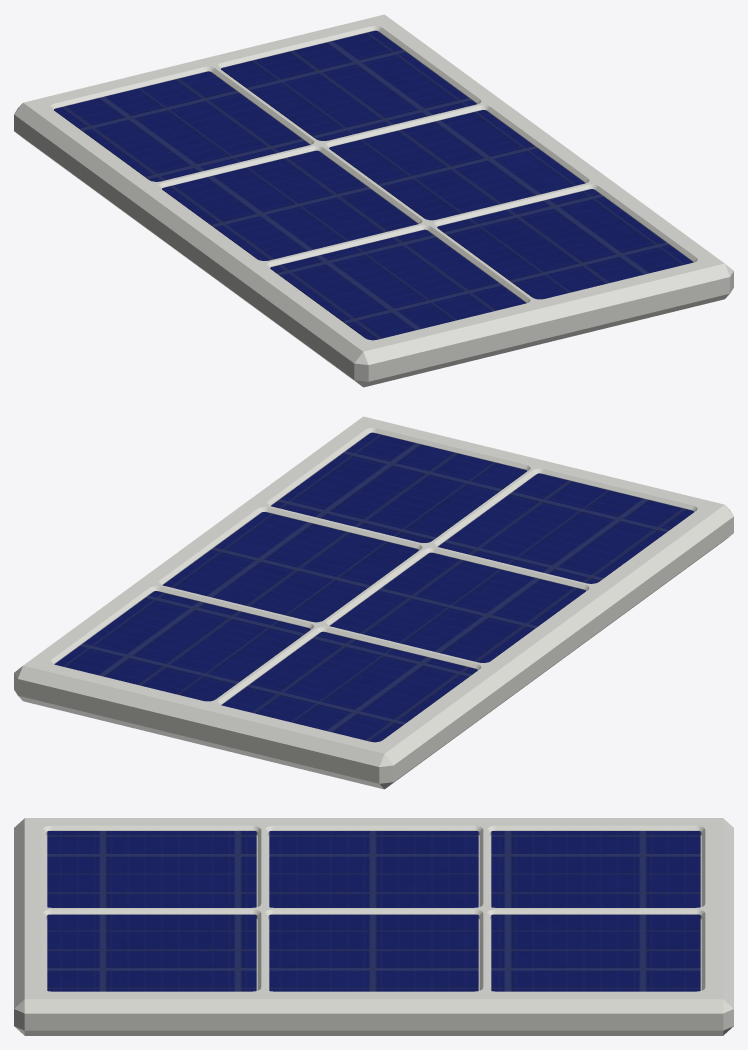
Rendered from ax_power_04_conformal_solar_s.glb.
3 renders of one model, top to bottom at view 1: azimuth 30°, elevation 25°; view 2: azimuth 150°, elevation 25°; view 3: azimuth 270°, elevation 25°, orthographic. The views are drawn at different scales.
Visible parts, largest first — view 1: solar_cells, skin_panel; view 2: solar_cells, skin_panel; view 3: solar_cells, skin_panel.
Part boxes in pixels (x1,y1,x2,y2): solar_cells: [54, 30, 693, 340]; skin_panel: [14, 14, 733, 387]; solar_cells: [54, 432, 693, 742]; skin_panel: [14, 416, 733, 789]; solar_cells: [47, 831, 700, 991]; skin_panel: [14, 818, 733, 1035].
Bounding box in the file's own units: 0.5 × 0.045 × 0.8.
2 materials, 1 textured.
